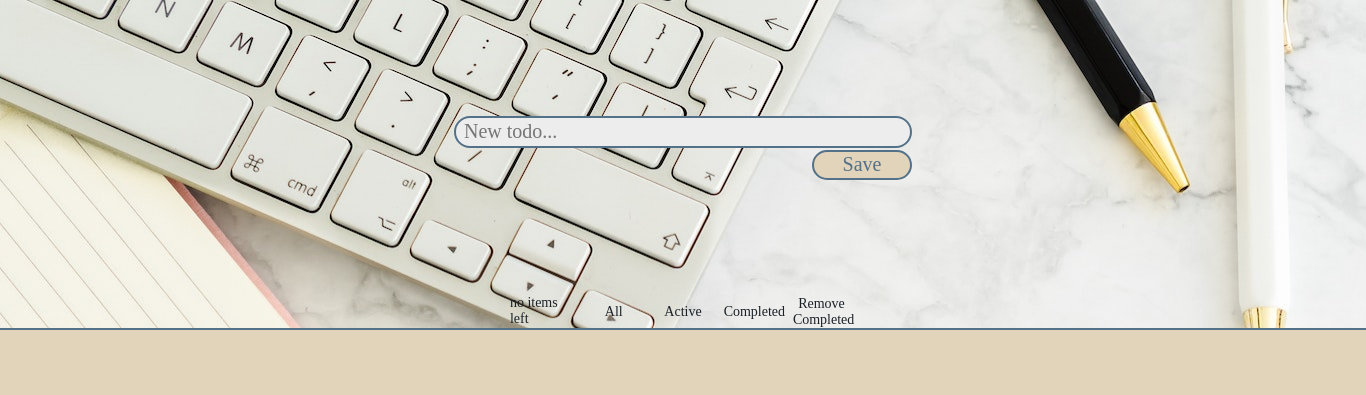
Test case: to-do app › add todo and set as done
Type "New Task" into the field with placeholder "New todo..." at [683, 132], box left=454, top=116, right=912, bottom=148
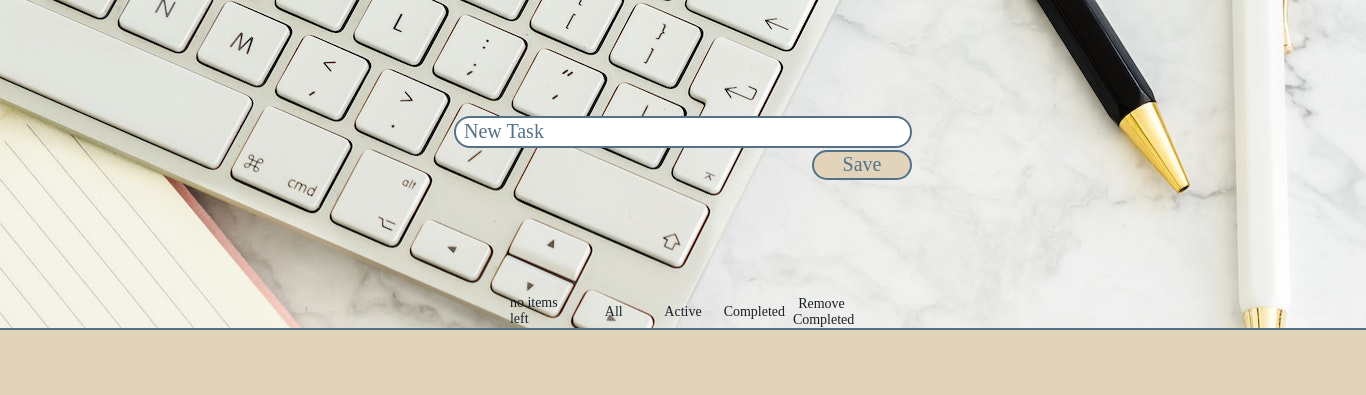
Press Enter in the field, box left=454, top=116, right=912, bottom=148
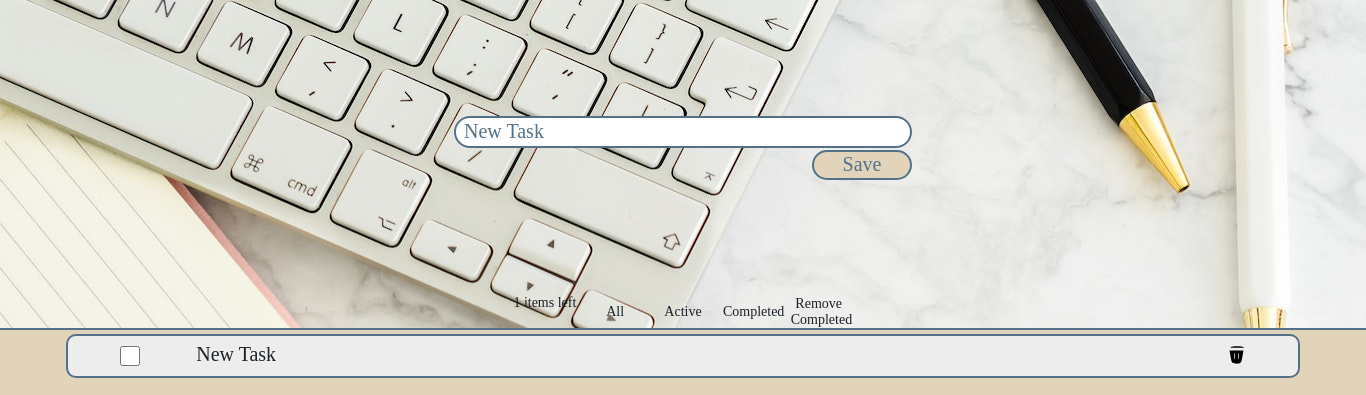
Clear the field at [683, 132], box left=454, top=116, right=912, bottom=148
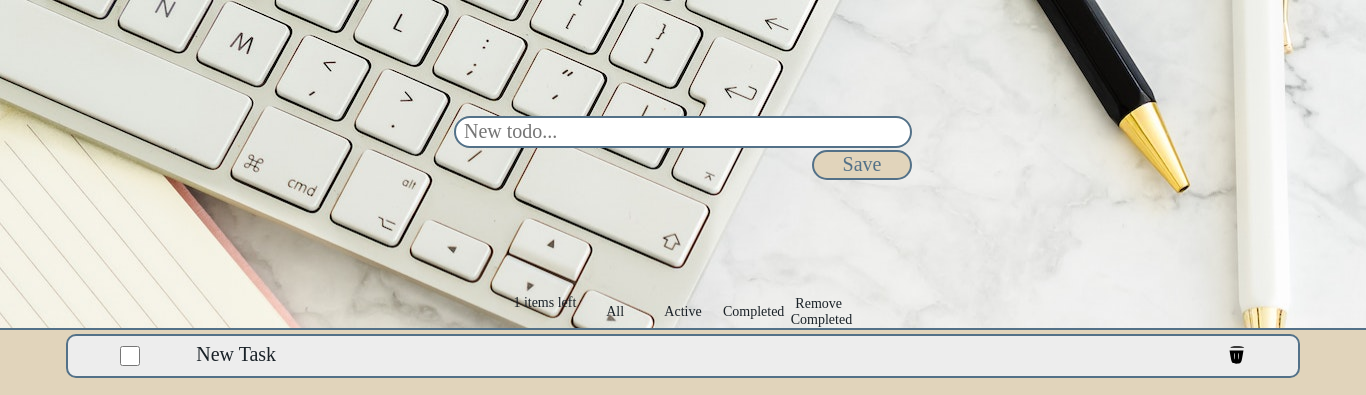
Now the text "1 items left" is shown, box left=513, top=295, right=576, bottom=310
Click the checkbox at [130, 356], box left=72, top=346, right=188, bottom=366
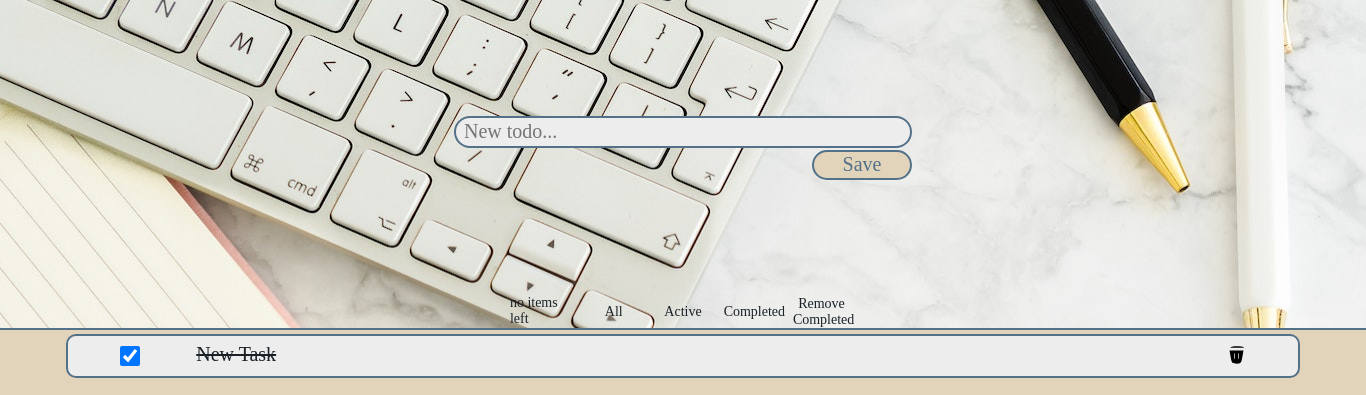
Now the checkbox is checked, box left=72, top=346, right=188, bottom=366
Now the text "New Task" is shown, box left=66, top=334, right=1300, bottom=378
Now the text "no items left" is shown, box left=510, top=295, right=558, bottom=326
